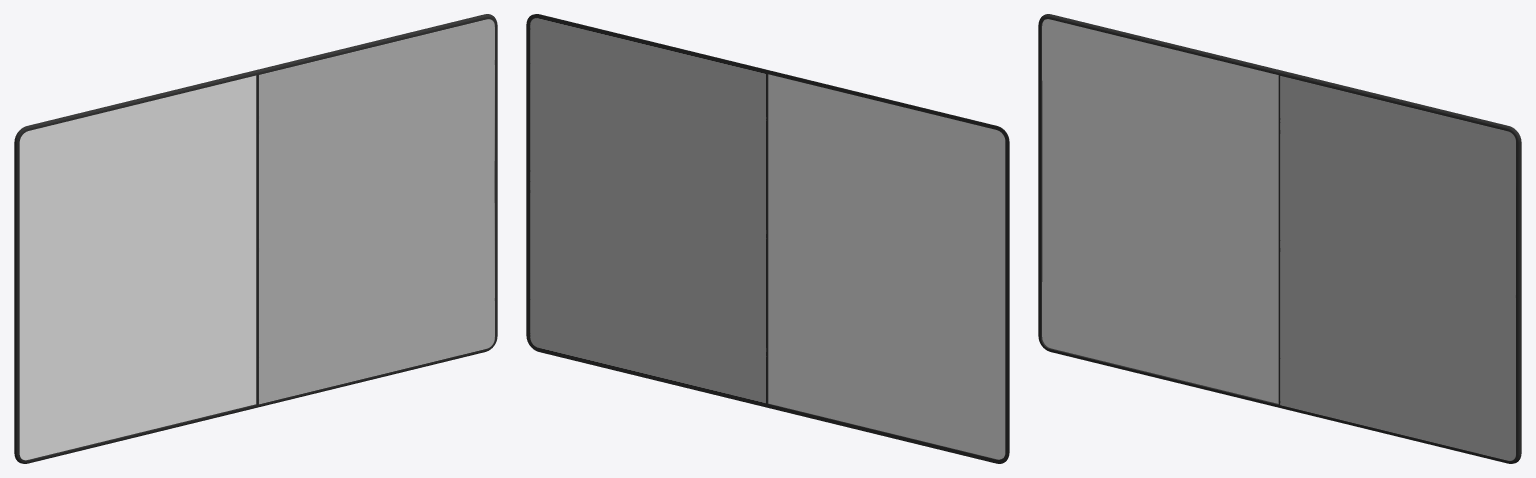
Rendered from mesh_CS_card_frame.fbx.
The picture shows the model from 3 angles, left to right: view 1: azimuth 30°, elevation 25°; view 2: azimuth 150°, elevation 25°; view 3: azimuth 330°, elevation 25°; orthographic projection.
Visible parts, largest first — view 1: mesh_CS_card_frame; view 2: mesh_CS_card_frame; view 3: mesh_CS_card_frame.
Boxes of the visible parts, x1,y1,x2,y2 form: mesh_CS_card_frame: [14, 14, 497, 463]; mesh_CS_card_frame: [526, 14, 1009, 463]; mesh_CS_card_frame: [1038, 14, 1521, 463].
Bounding box in the file's own units: 1199 × 801 × 6.71.
